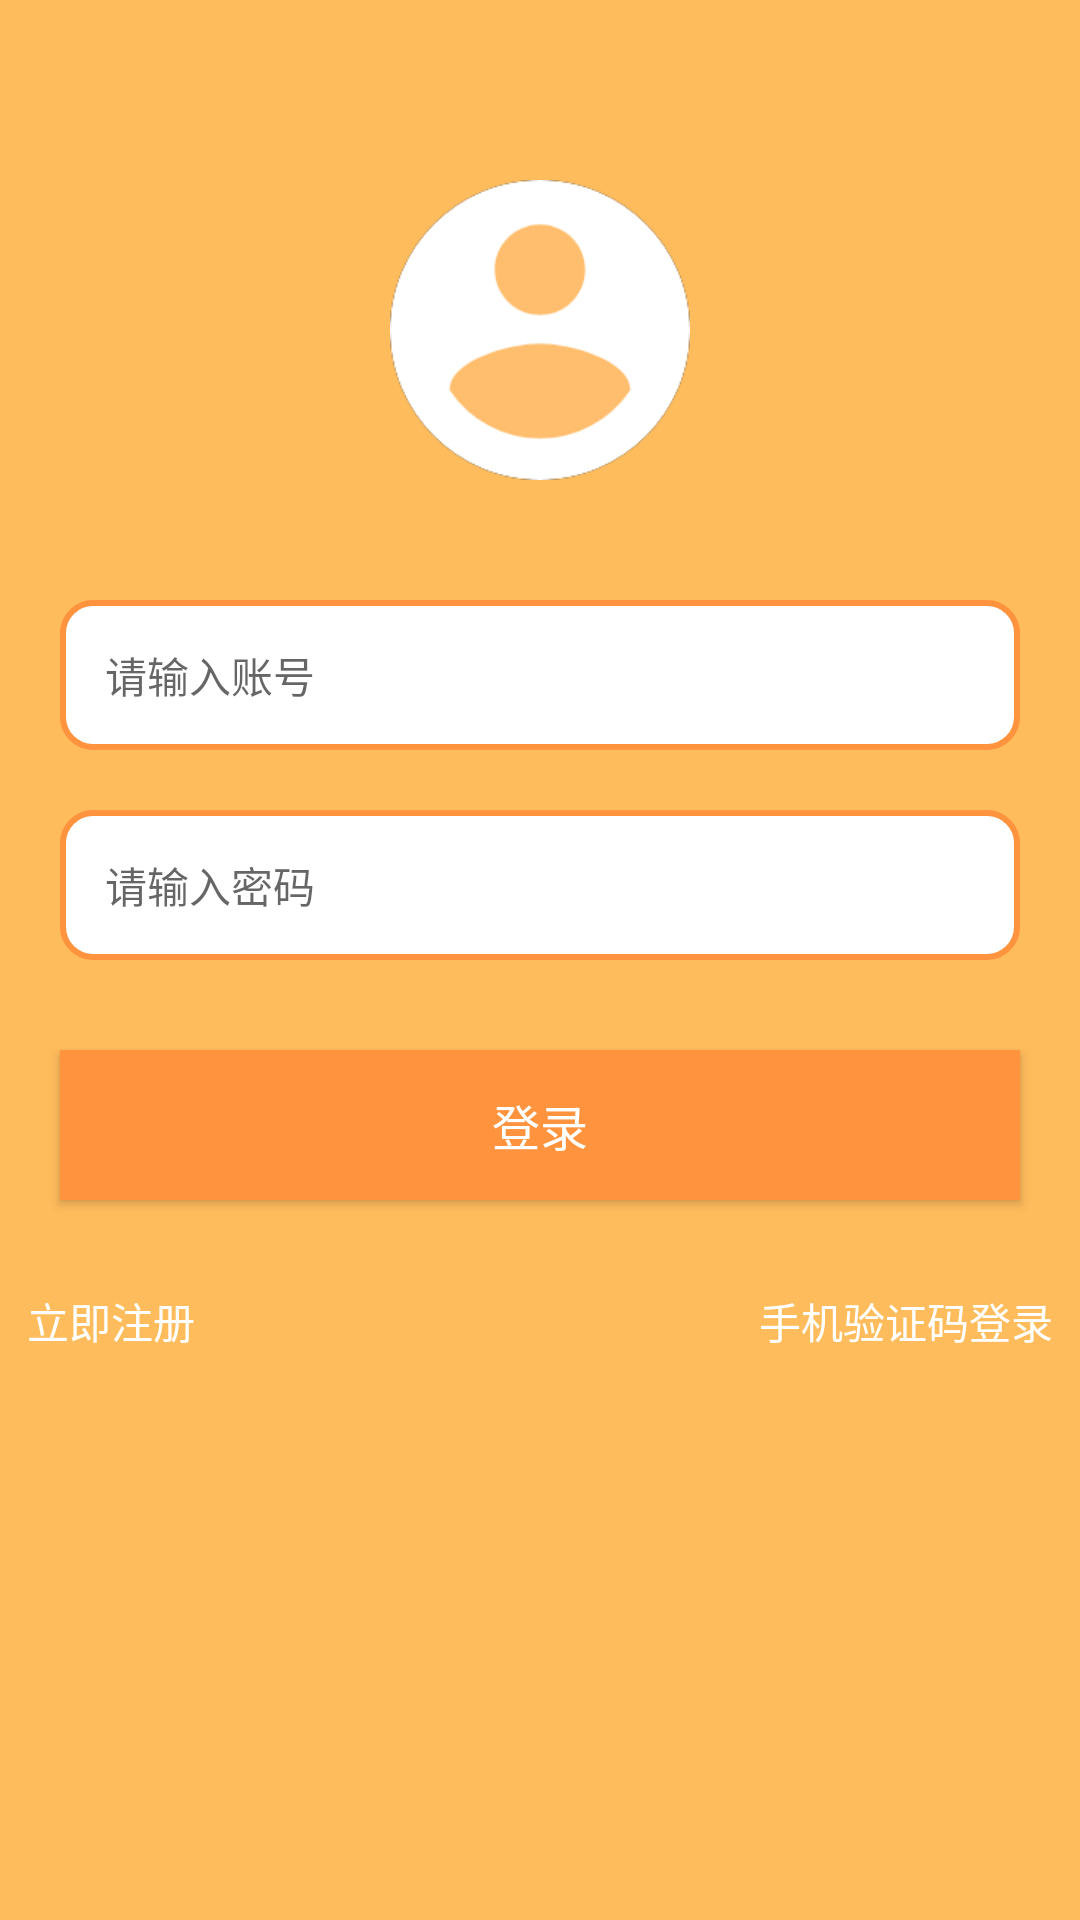

Screen size 1080×1920. Icon name, then its box in pixels as detection(x1, y1, x2, y2):
user: detection(390, 180, 690, 480)
